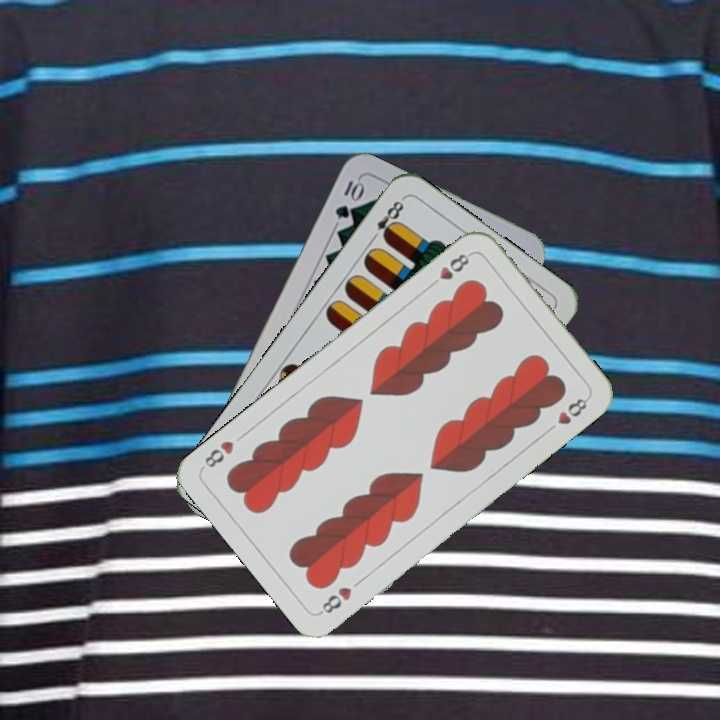E8: (366, 196, 407, 245)
G10: (331, 175, 366, 221)
H8: (425, 249, 475, 291), (315, 583, 355, 617)
